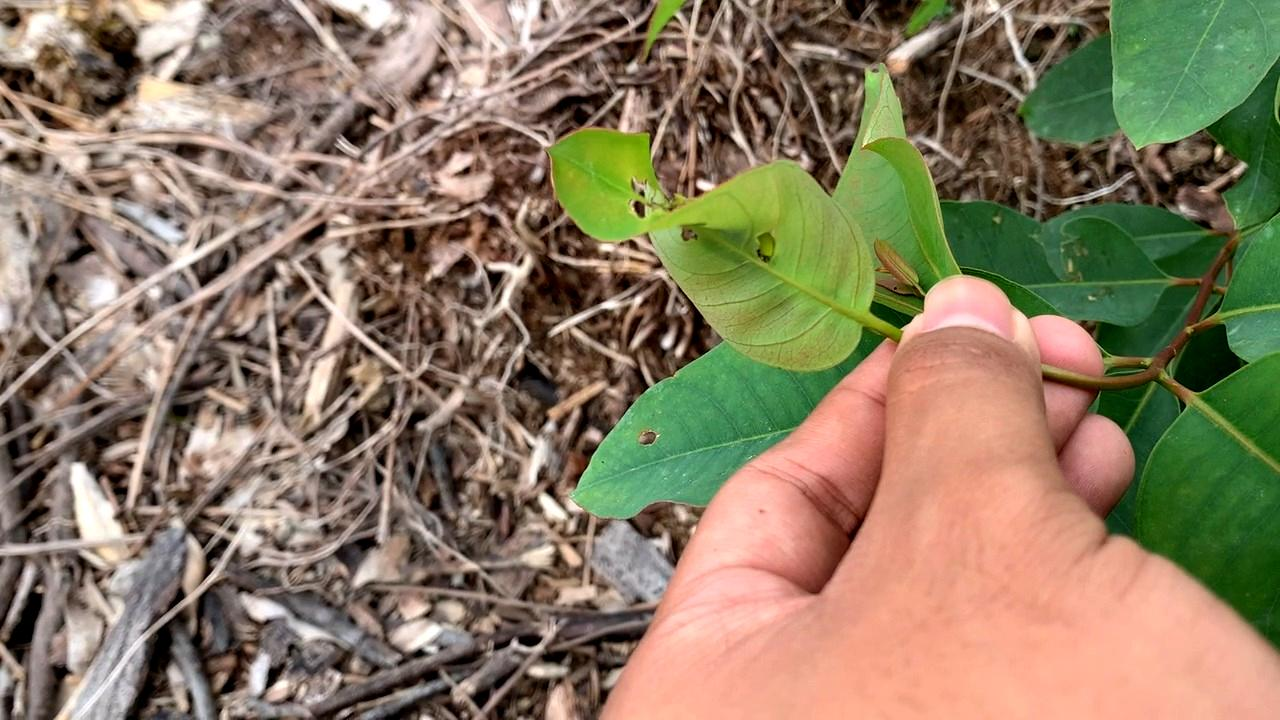Leaf Roller - Leaf: (541, 119, 879, 387)
